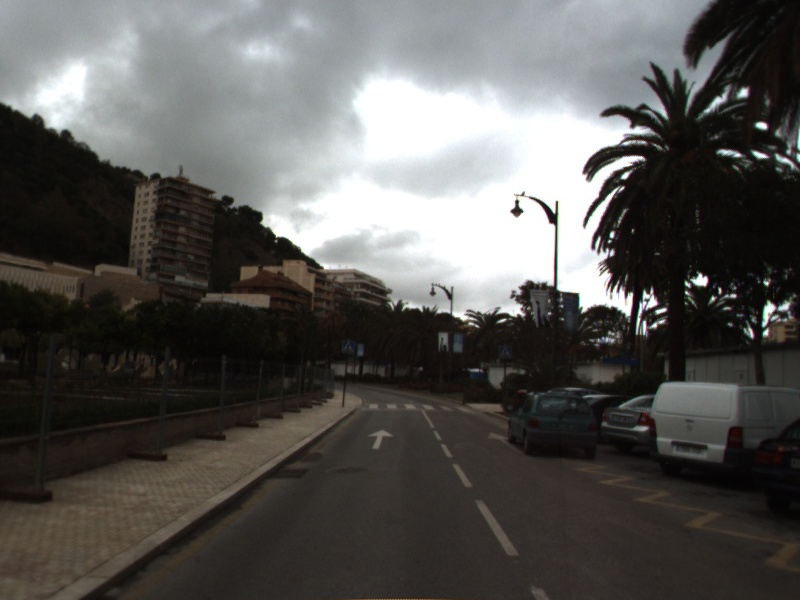STRAIGHT: (486, 430, 526, 455), (366, 428, 397, 451)
